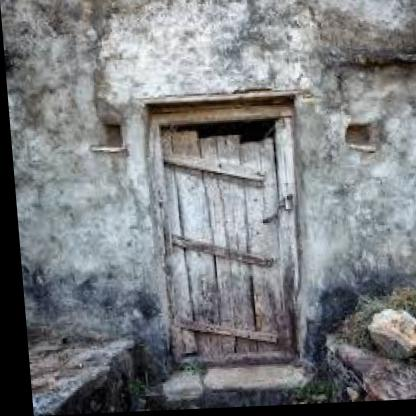door: (146, 102, 294, 361)
